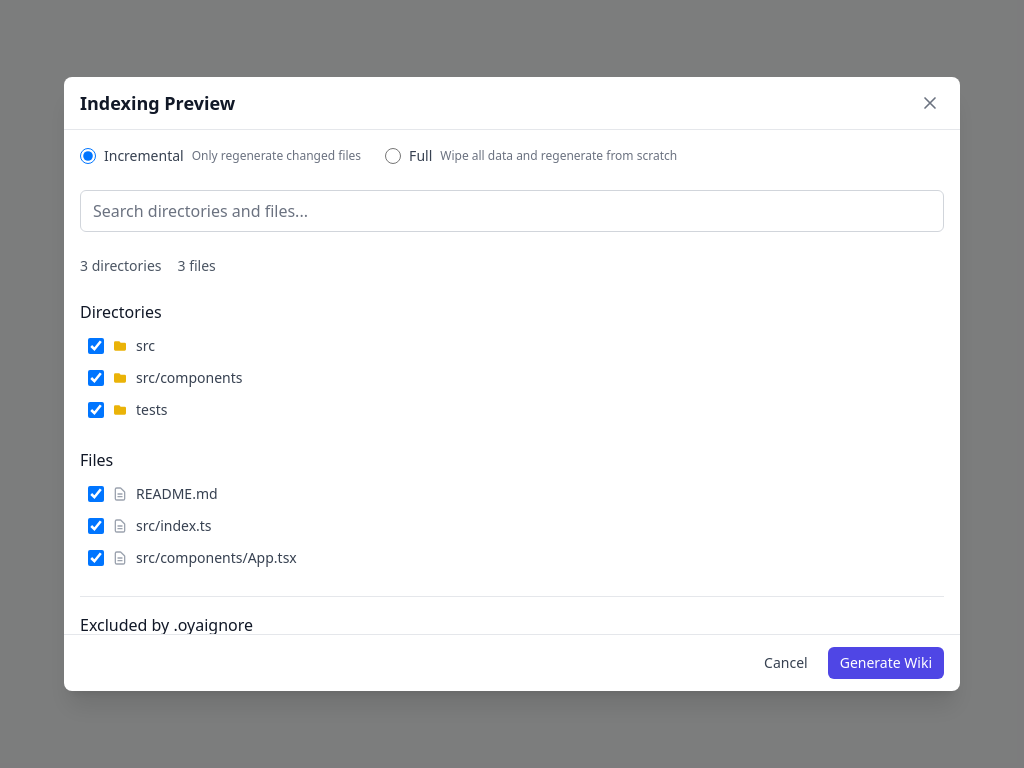
Test: IndexingPreviewModal › directory exclusion (inverted checkbox) › restores files when directory is re-checked
The width and height of the screenshot is (1024, 768).
Expected: the text "src/index.ts" is shown, [136,516,212,536]
Find and click the checkbox for 'src' directory to uncheck (exclude)
Click the 1st checkbox.
click(96, 346)  # box [88,338,104,354]
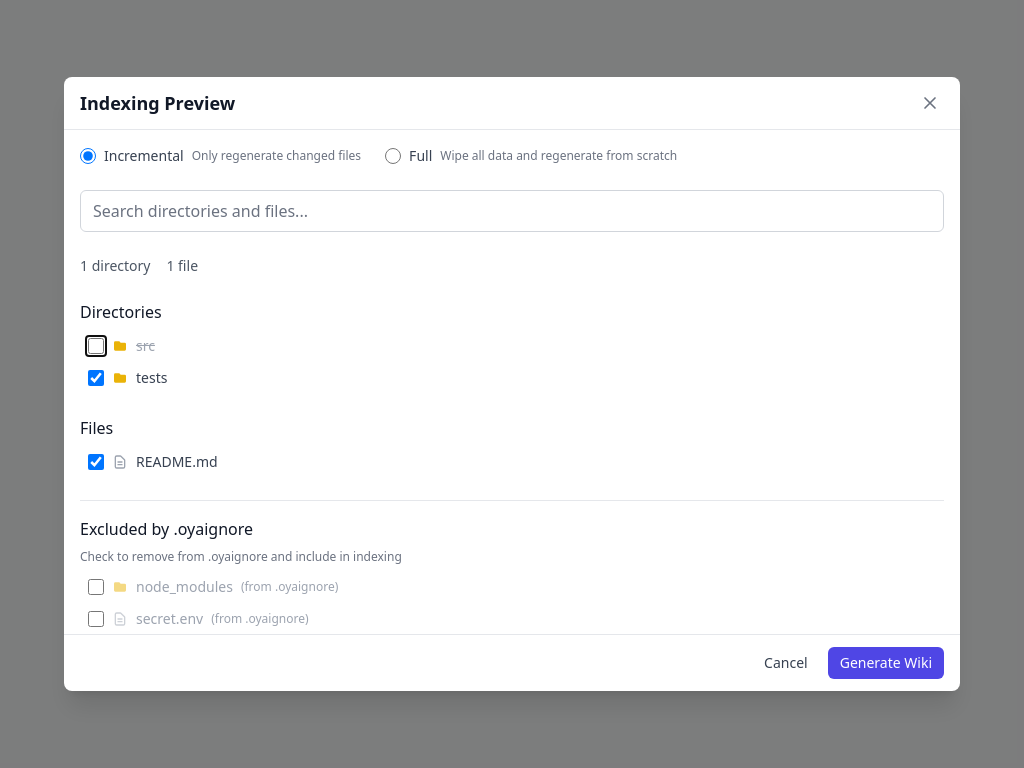
Expected: the text "src/index.ts" is gone
Check the directory again (re-include)
Click the checkbox next to "src".
click(96, 346)  # box [88,338,104,354]
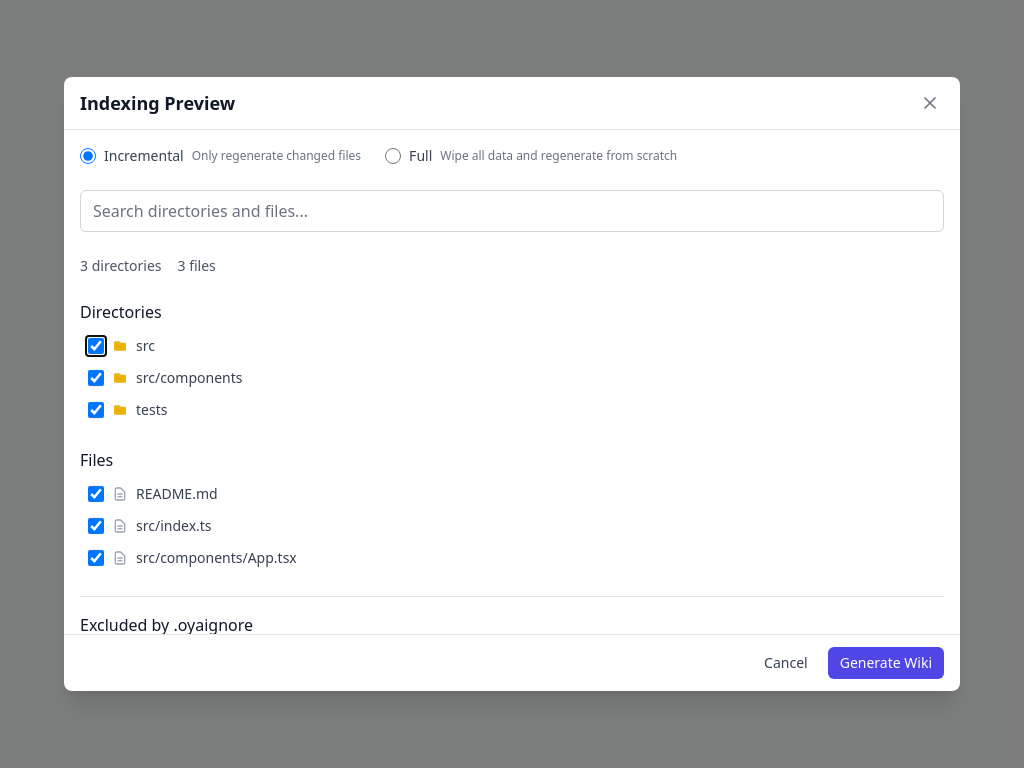
Expected: the text "src/index.ts" is shown, [136,516,212,536]
Expected: the text "src/components/App.tsx" is shown, [136,548,297,568]
